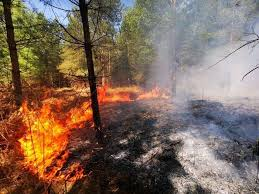fire: (8, 82, 143, 194)
smoke: (154, 29, 259, 132)
